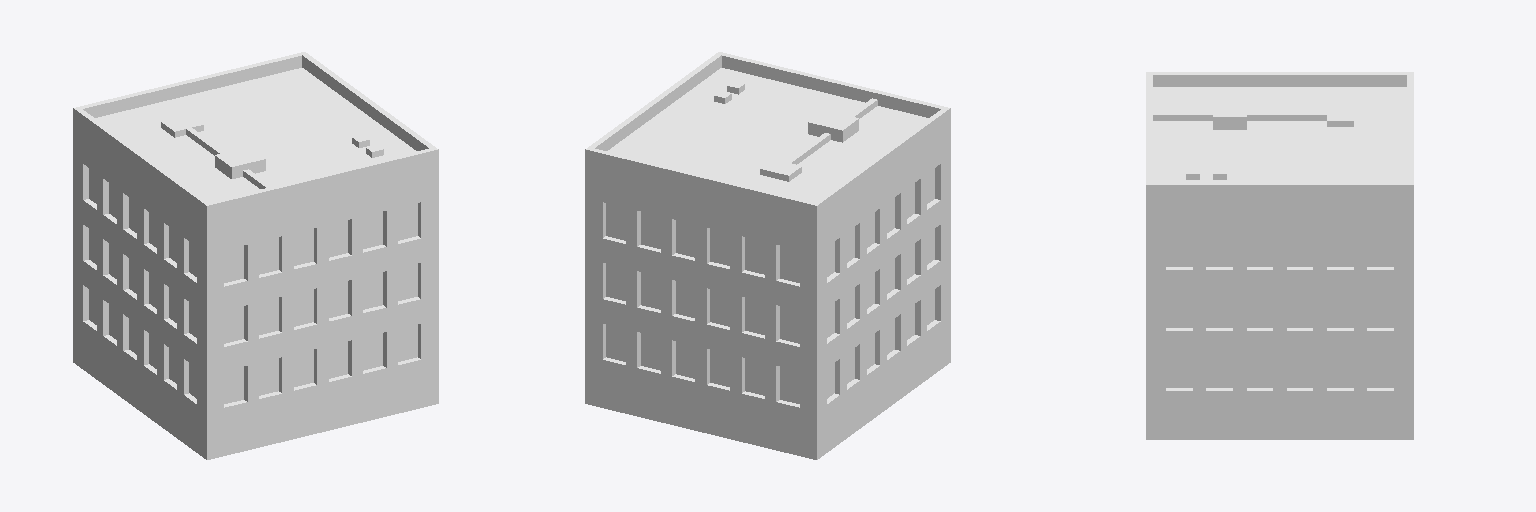
The model's file is Asset-20.obj.
3 renders of one model, left to right at view 1: azimuth 30°, elevation 25°; view 2: azimuth 150°, elevation 25°; view 3: azimuth 270°, elevation 25°, orthographic.
Parts seen in each view (by area): view 1: Asset-20; view 2: Asset-20; view 3: Asset-20.
Part boxes in pixels (x1,y1,x2,y2): Asset-20: (73, 52, 438, 459); Asset-20: (585, 52, 950, 459); Asset-20: (1146, 72, 1413, 439).
Size of the model in its own units: 40 by 42 by 40.